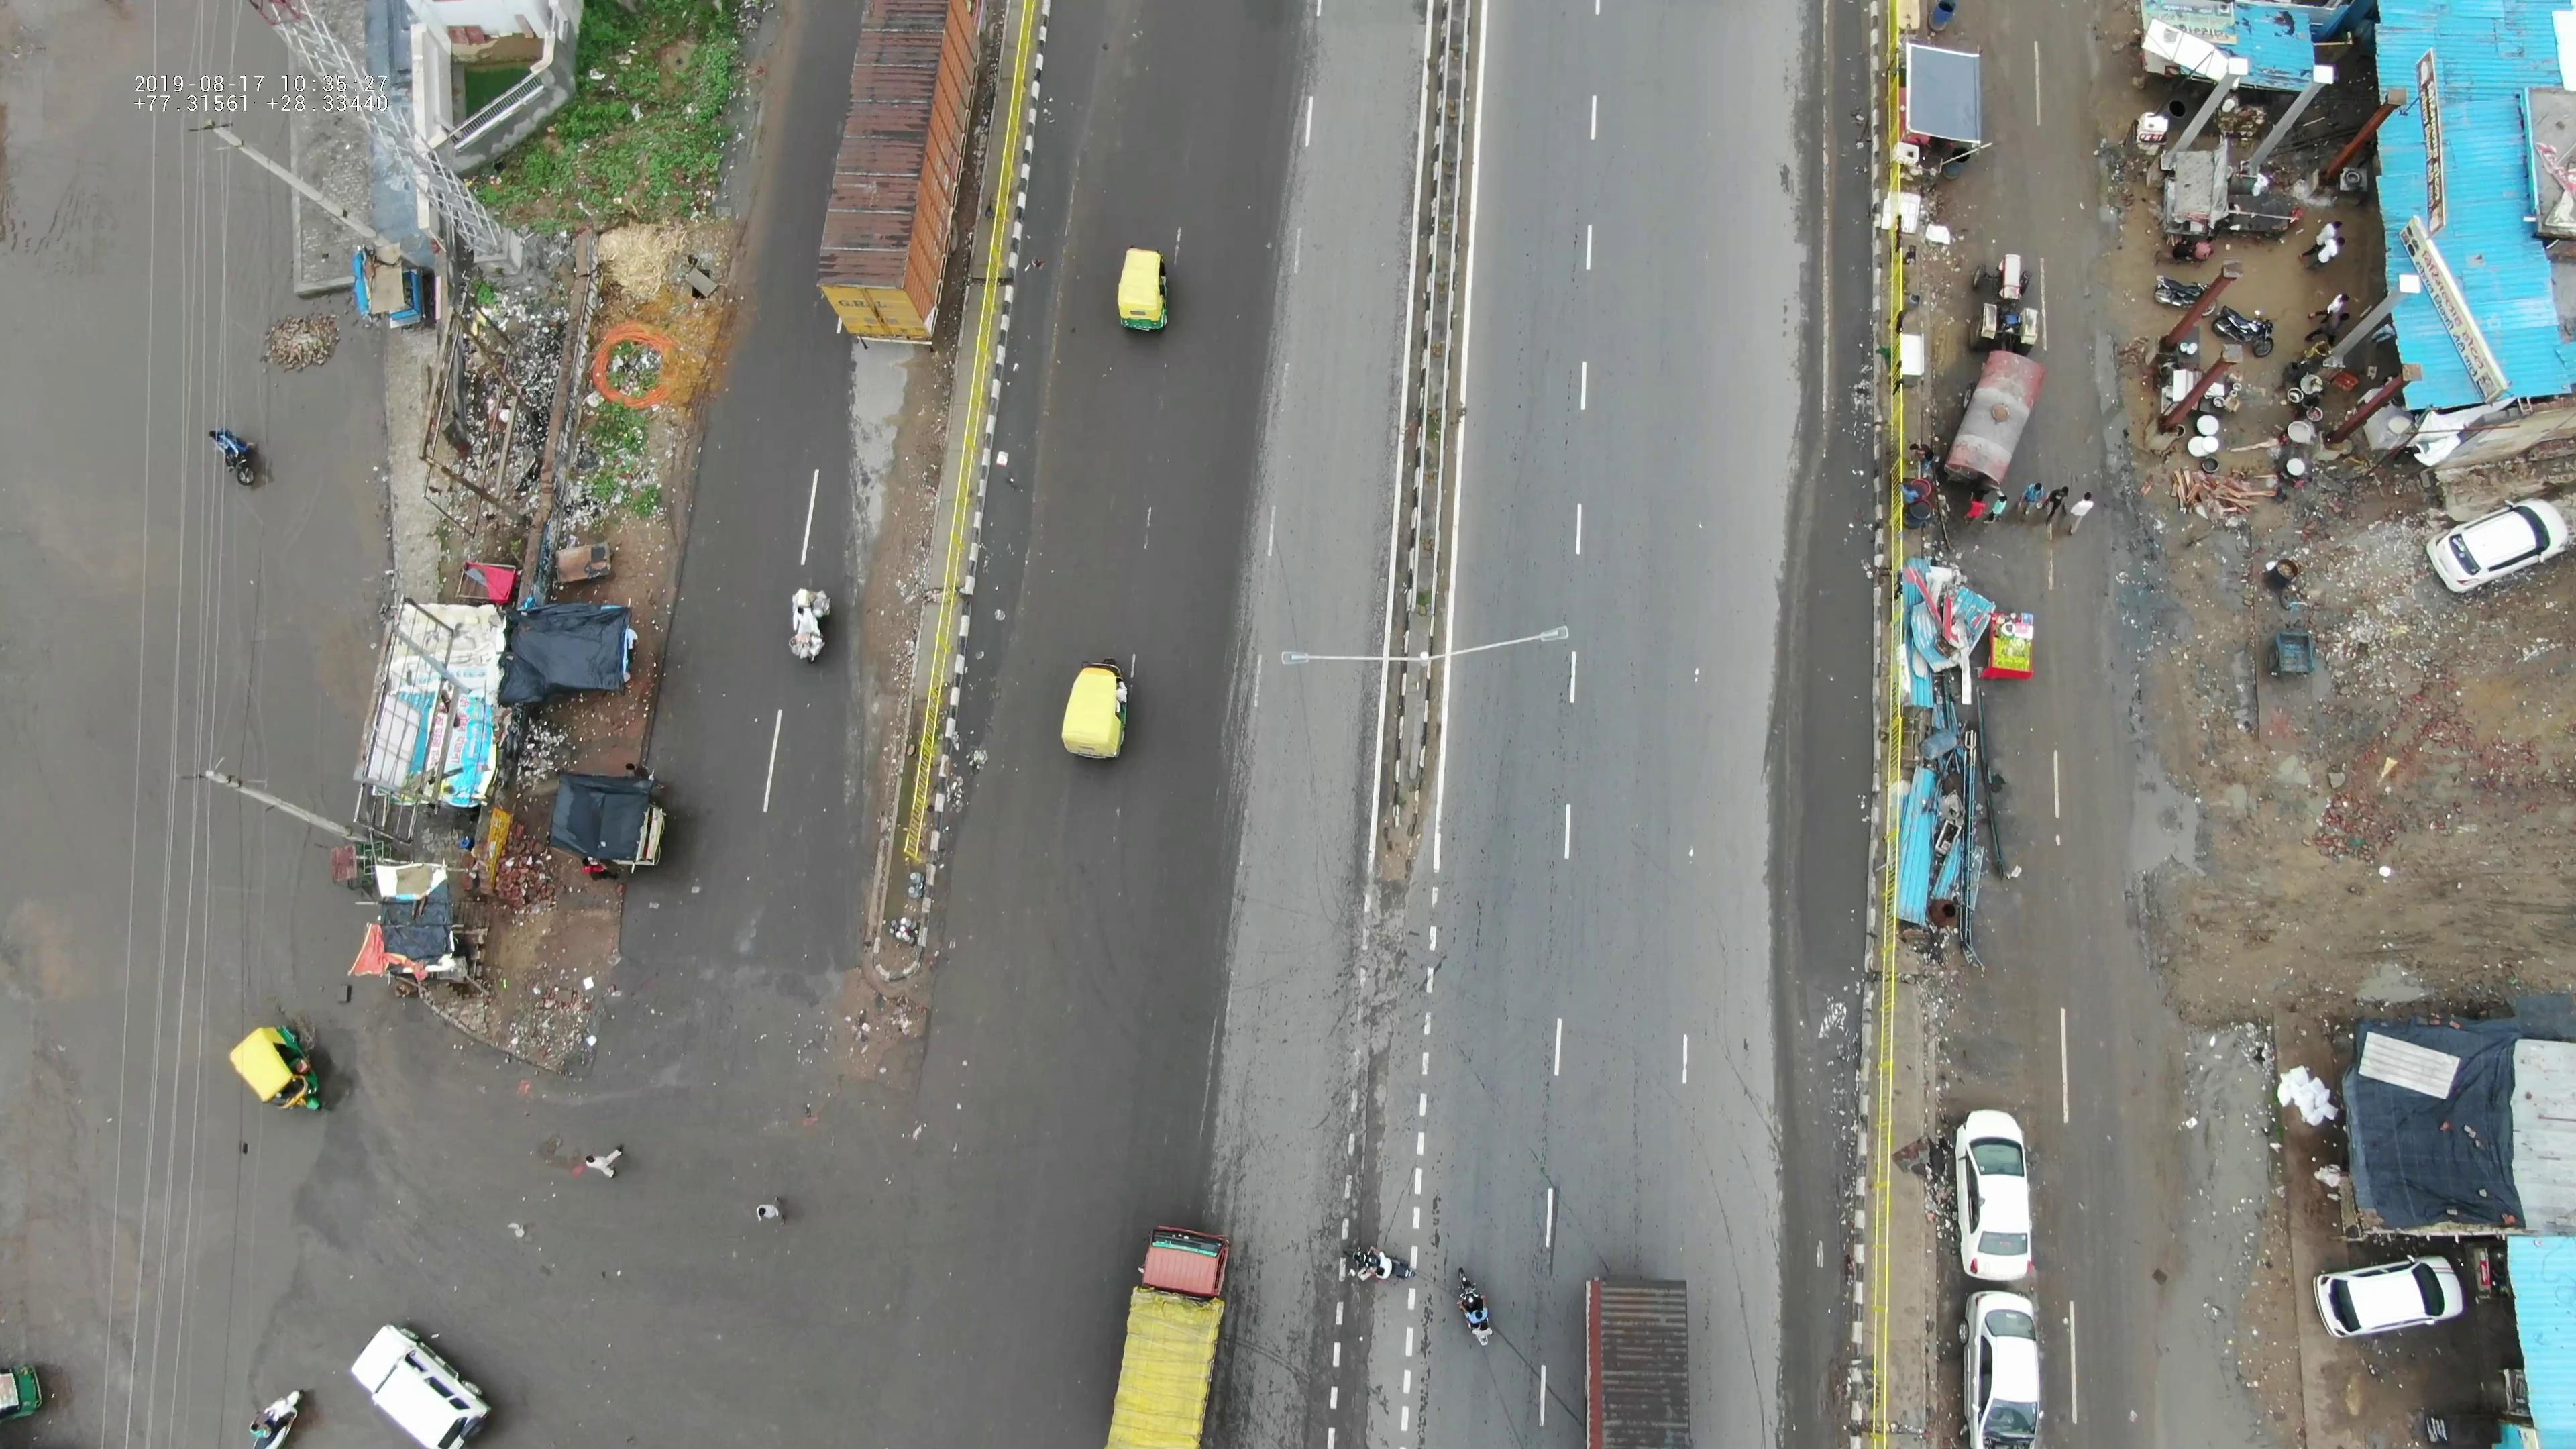Waterlogging: (2171, 1023, 2281, 1438), (2104, 741, 2222, 876)
